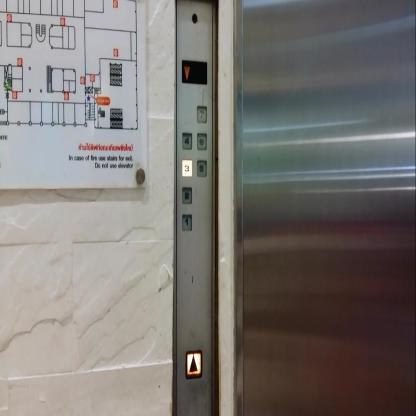1: (180, 212, 192, 231)
2: (181, 184, 192, 204)
3: (181, 157, 193, 177)
4: (181, 131, 193, 150)
5: (196, 158, 207, 178)
6: (196, 130, 207, 151)
7: (196, 104, 208, 124)
led: (181, 59, 208, 85)
up: (185, 348, 202, 378)
